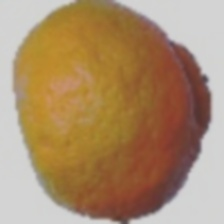tangerine: (30, 17, 215, 214)
